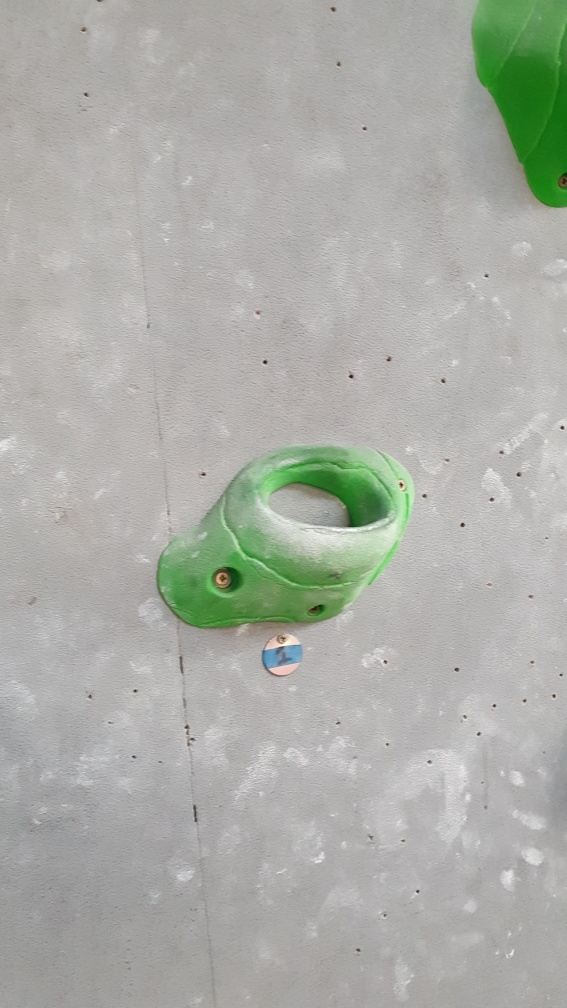Hand Start: (257, 628, 307, 680)
Pocket: (155, 435, 416, 630)
